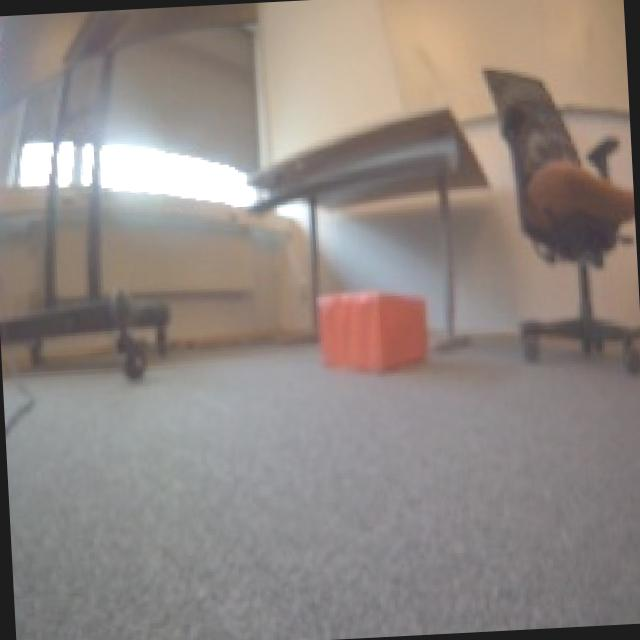target: (310, 283, 431, 375)
